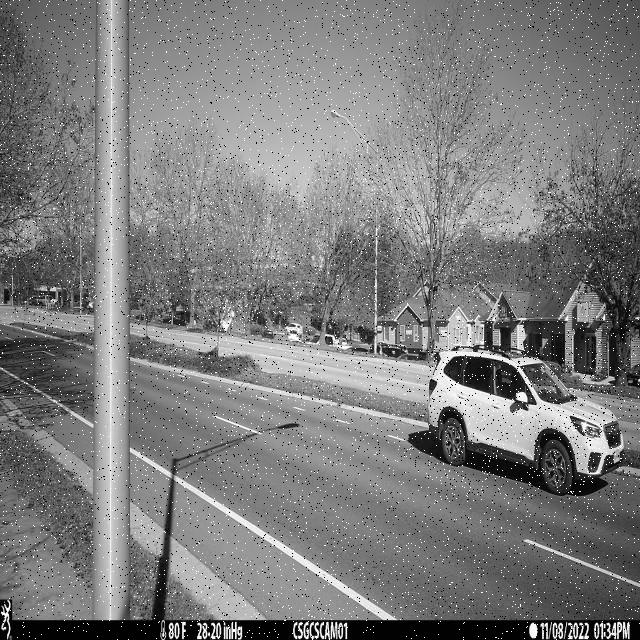SUV: (428, 346, 624, 496)
